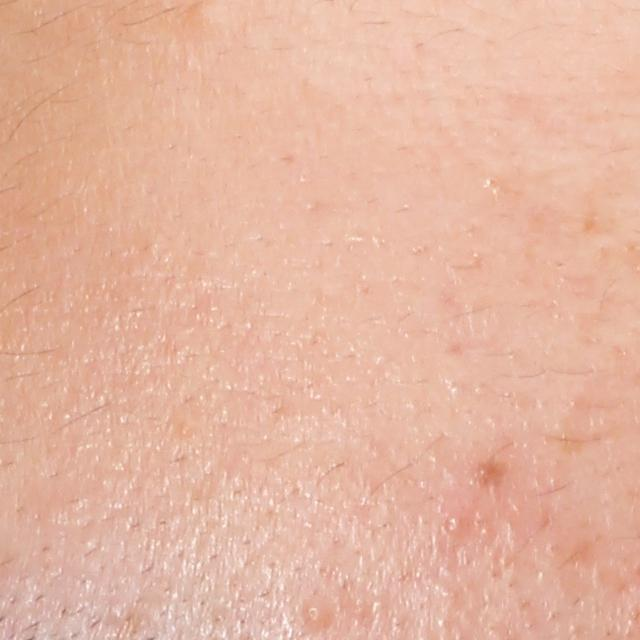comedo: (302, 602, 332, 628)
